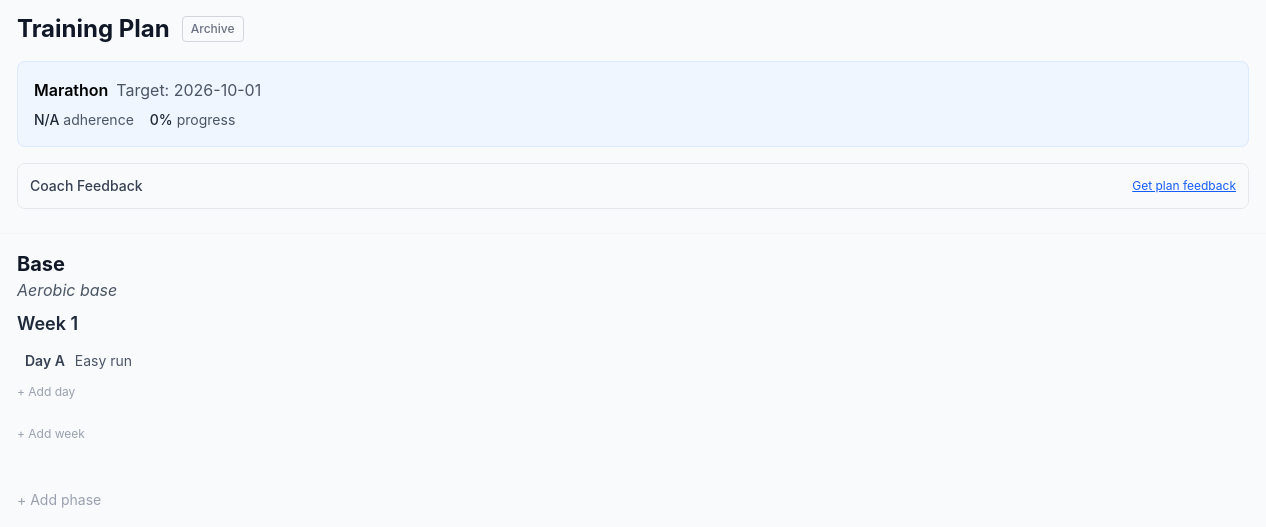
it: TrainingPlan › pressing Escape in date edit mode reverts to display without saving
The image size is (1266, 527).
Click the text "Target: 2026-10-01": (189, 90) [116,78,261,102]
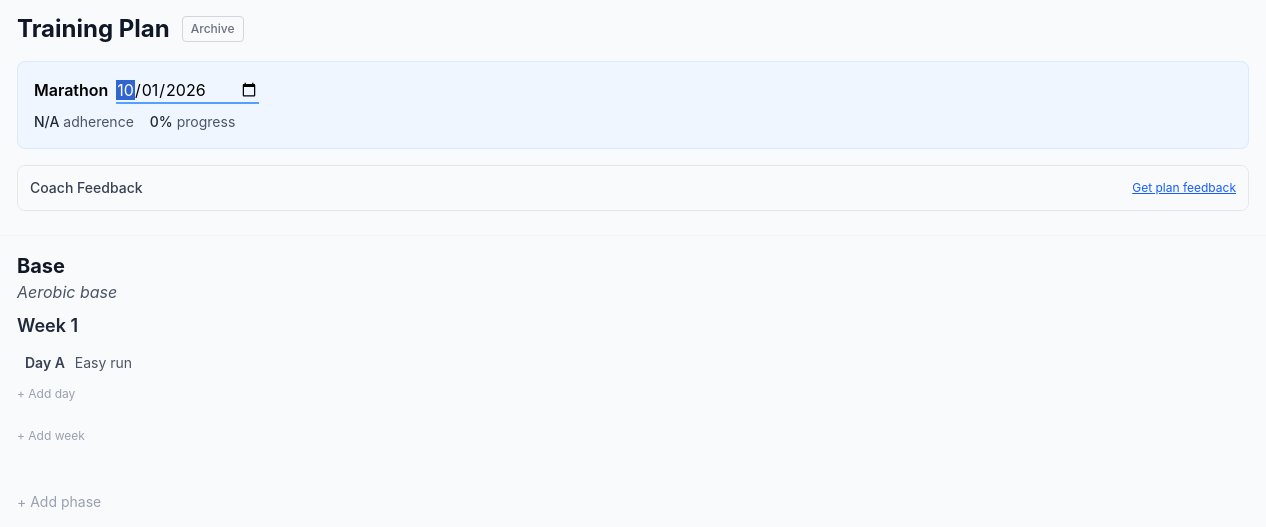
In the date field: (188, 91) [116,78,259,104], type "2027-01-01"
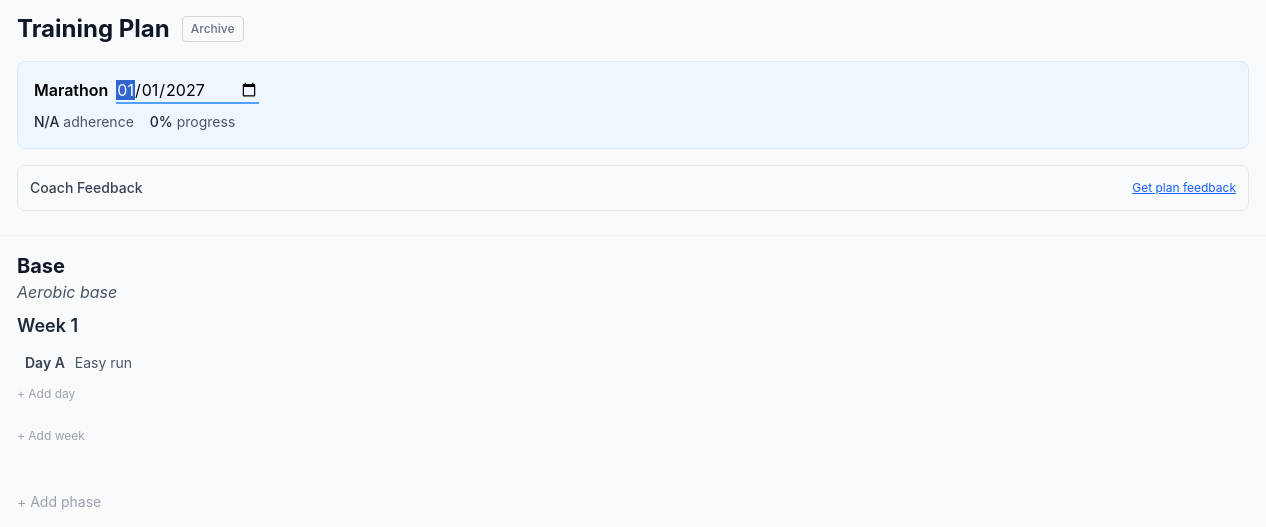
Press Escape in the date field, box [116,78,259,104]
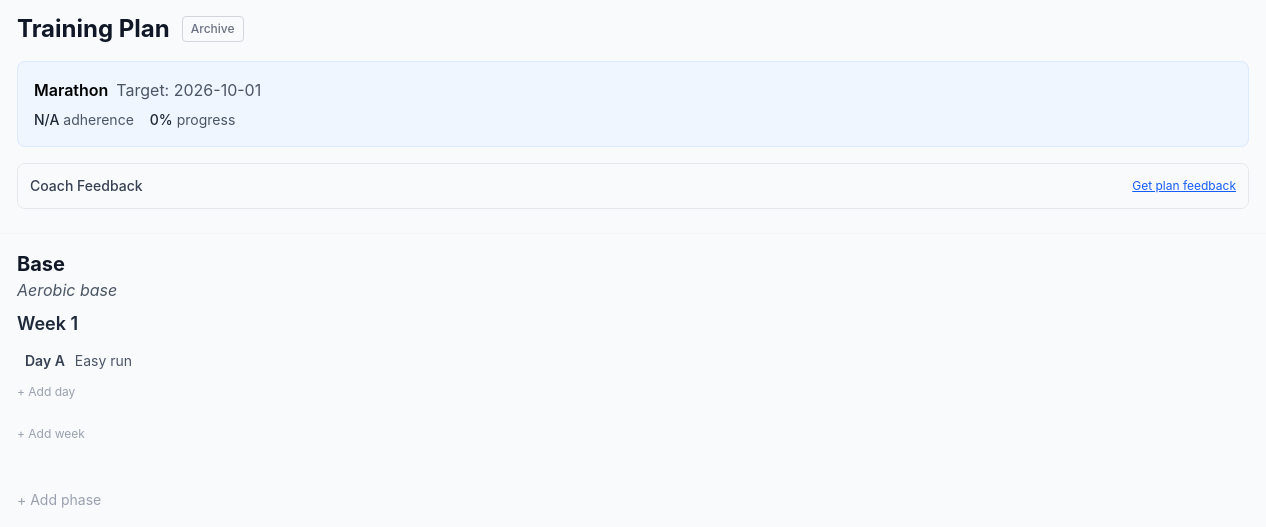
Check: the text "Target: 2026-10-01" is shown, box [116,78,261,102]
